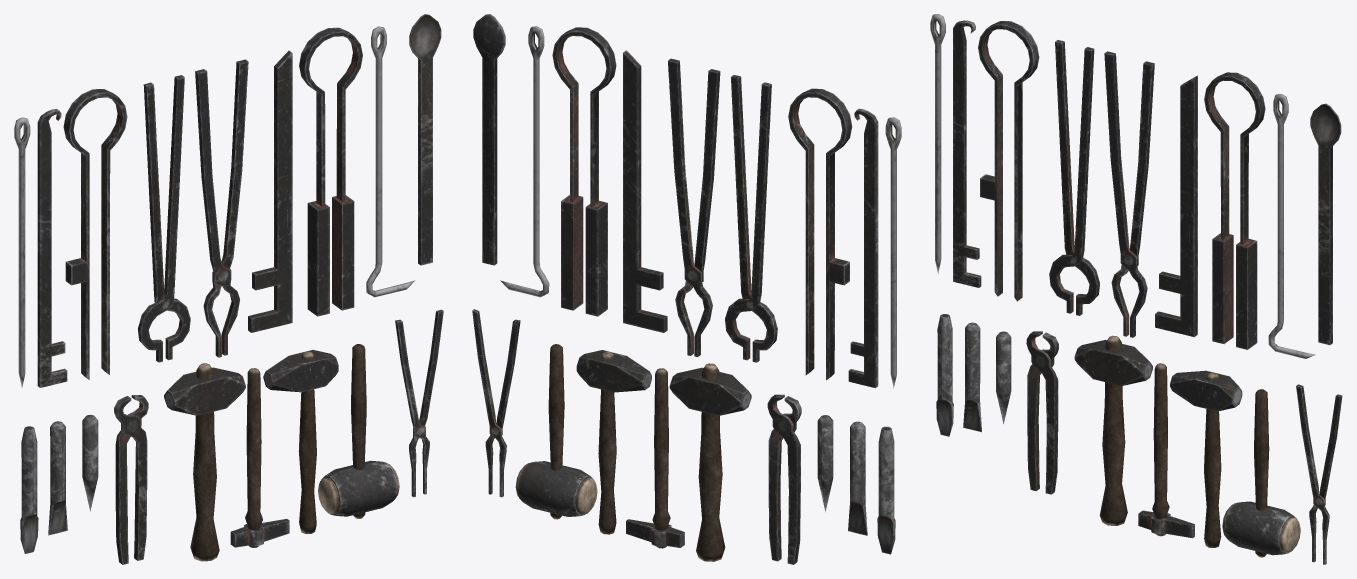
The model's file is smith_tool_wall.glb.
The picture shows the model from 3 angles, left to right: view 1: azimuth 30°, elevation 25°; view 2: azimuth 150°, elevation 25°; view 3: azimuth 330°, elevation 25°; orthographic projection. The views are drawn at different scales.
Parts seen in each view (by area): view 1: defaultMaterial; view 2: defaultMaterial; view 3: defaultMaterial.
Part boxes in pixels (x1,y1,x2,y2): defaultMaterial: (14,14,443,564); defaultMaterial: (472,14,901,564); defaultMaterial: (930,14,1342,564).
Bounding box in the file's own units: 1.8 × 2 × 0.178.
Materials: 1 (1 with a texture image).
